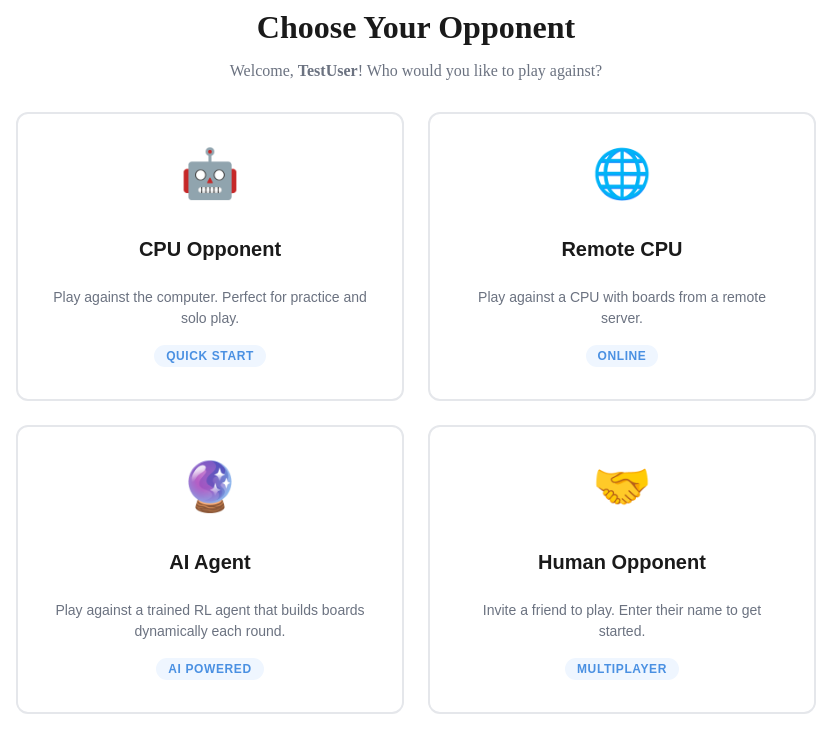
Test case: OpponentManager › Human opponent selection flow › should enable Continue button when name has content
Click the button with aria-label "Play against human opponent" at (622, 569), box x1=428 y1=424 x2=816 y2=714
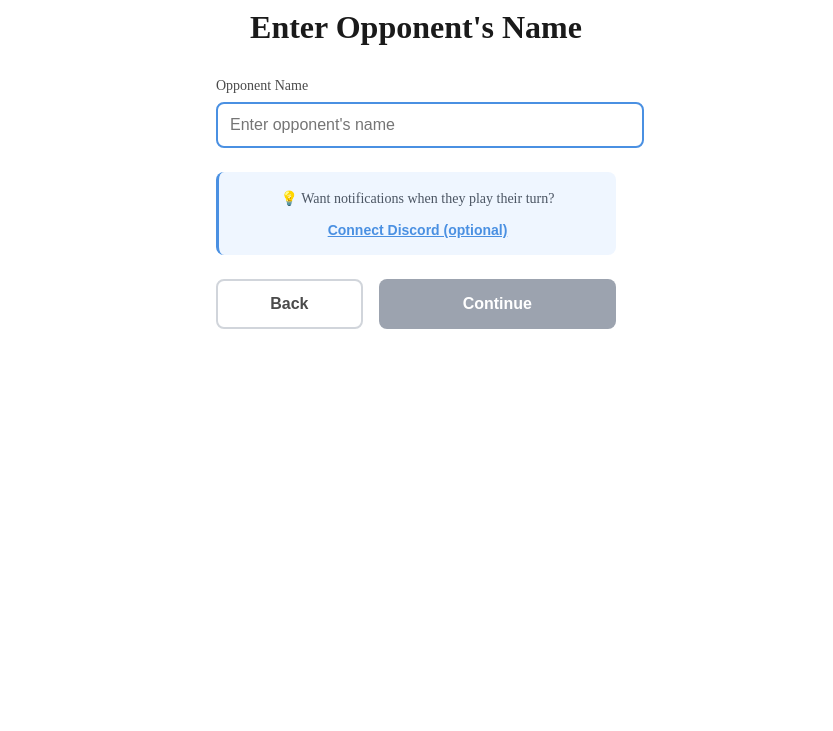
Type "Bob" into the field labelled "Opponent Name" at (430, 124), box x1=216 y1=102 x2=644 y2=148
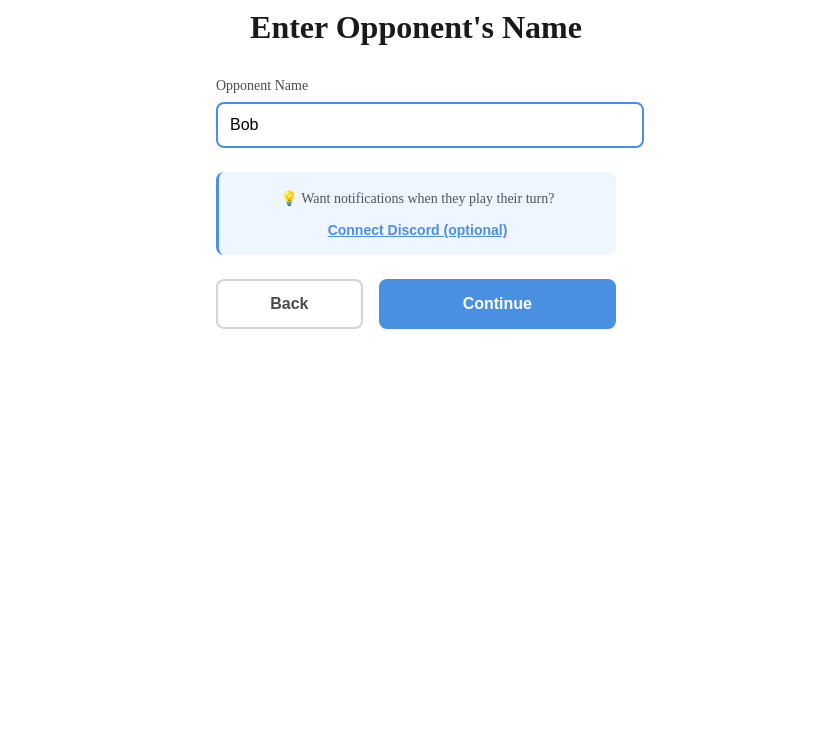
Check: the button "Continue" is enabled, box x1=379 y1=278 x2=616 y2=328
